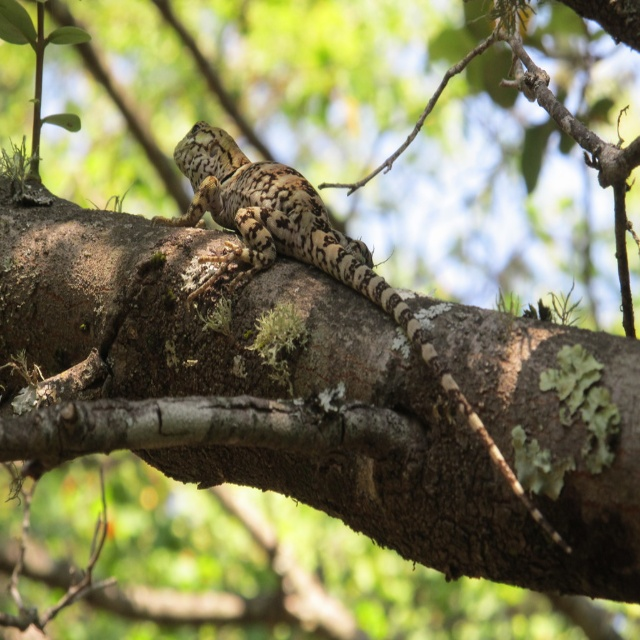Lizard: (85, 66, 588, 617)
